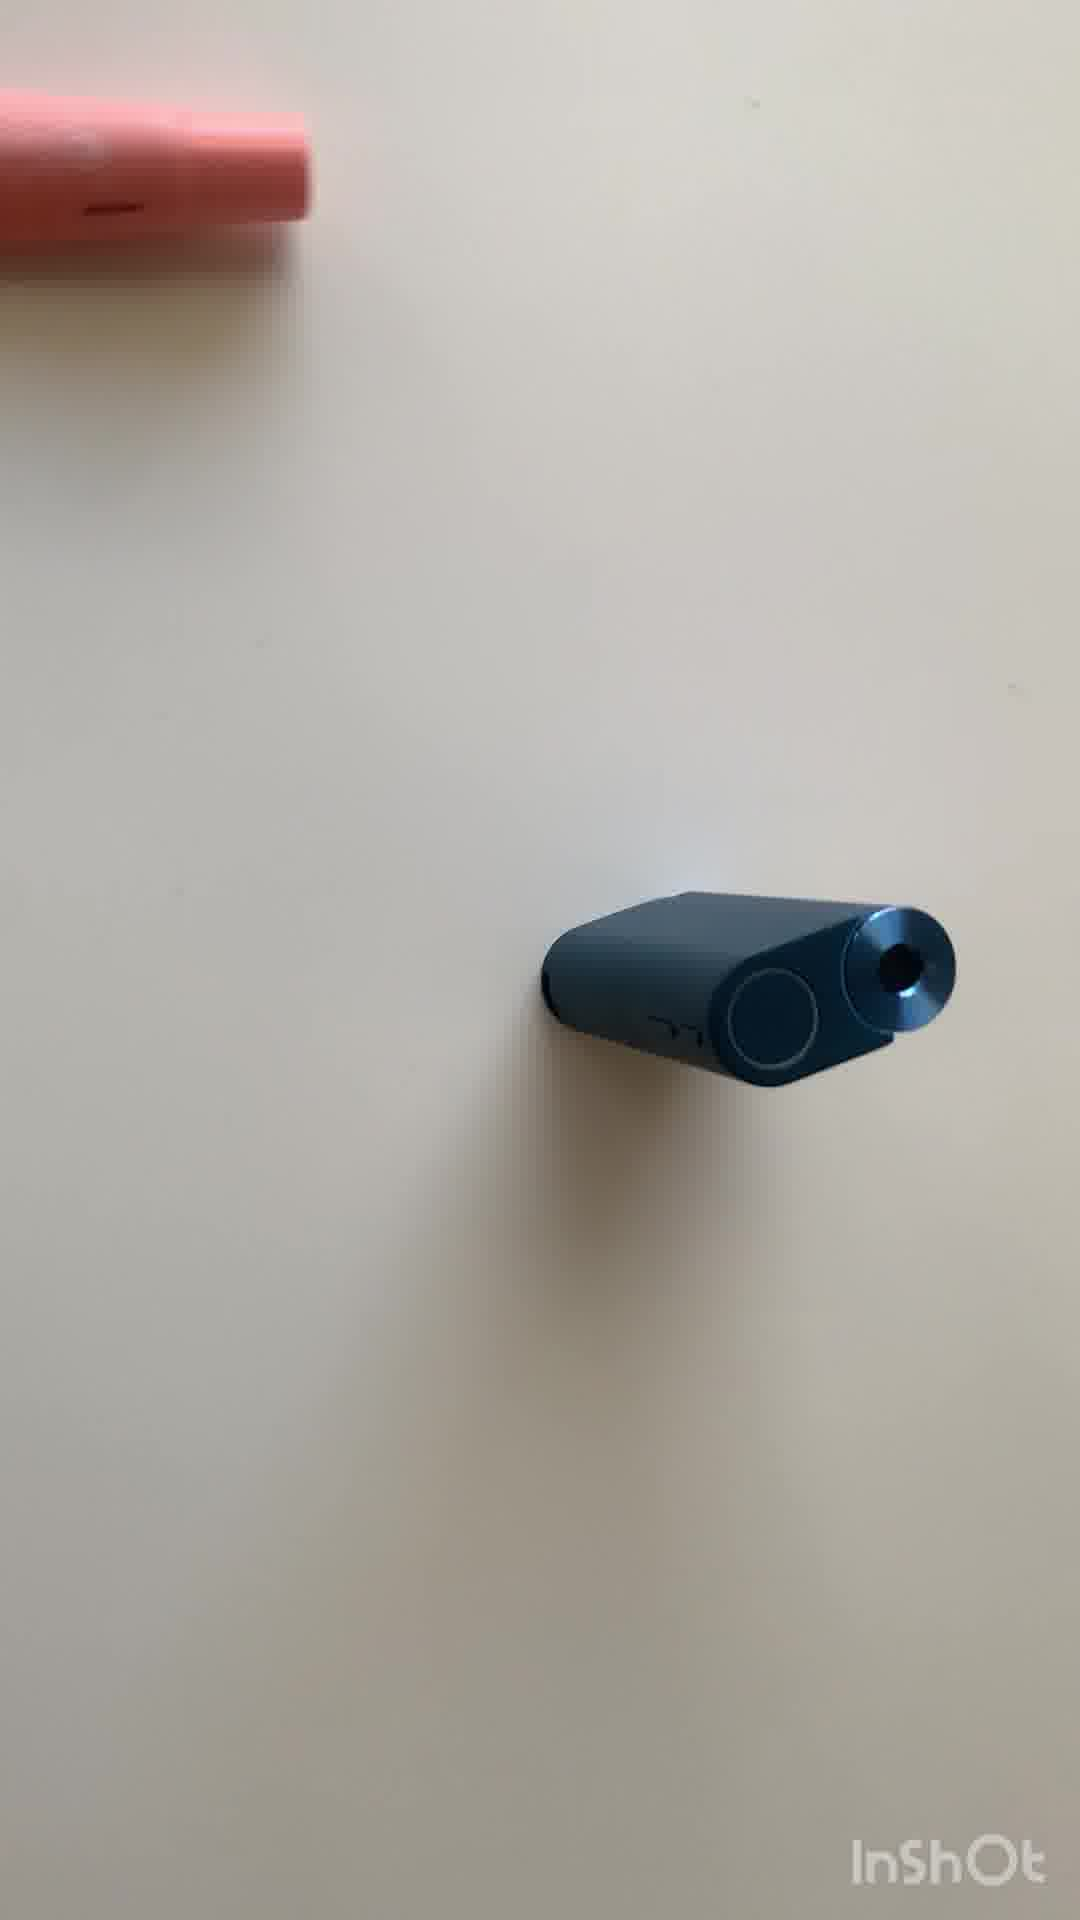glo: (539, 885, 956, 1091)
lip balm: (1, 87, 356, 276)
